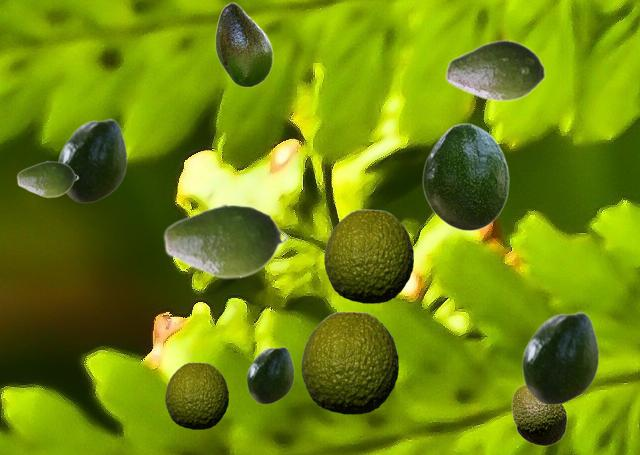avocado: (301, 311, 397, 413), (162, 202, 288, 279), (422, 123, 508, 230), (324, 209, 412, 302), (521, 311, 598, 404), (445, 39, 545, 101), (58, 118, 126, 202), (215, 2, 272, 86), (165, 362, 227, 428), (511, 384, 566, 445), (246, 346, 293, 403), (16, 160, 78, 197)
